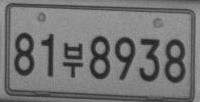1: (38, 33, 62, 77)
3: (138, 37, 160, 82)
8: (164, 38, 187, 84), (13, 31, 35, 76), (89, 35, 111, 79)
9: (113, 36, 136, 80)
부: (62, 42, 83, 78)
